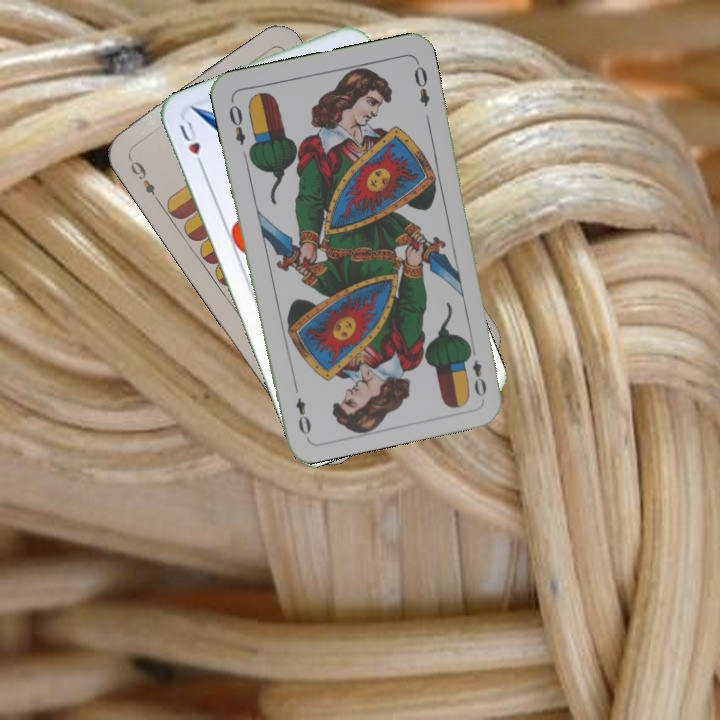E9: (124, 153, 163, 205)
EO: (463, 342, 489, 399), (224, 101, 248, 148)
HU: (175, 116, 207, 173)
